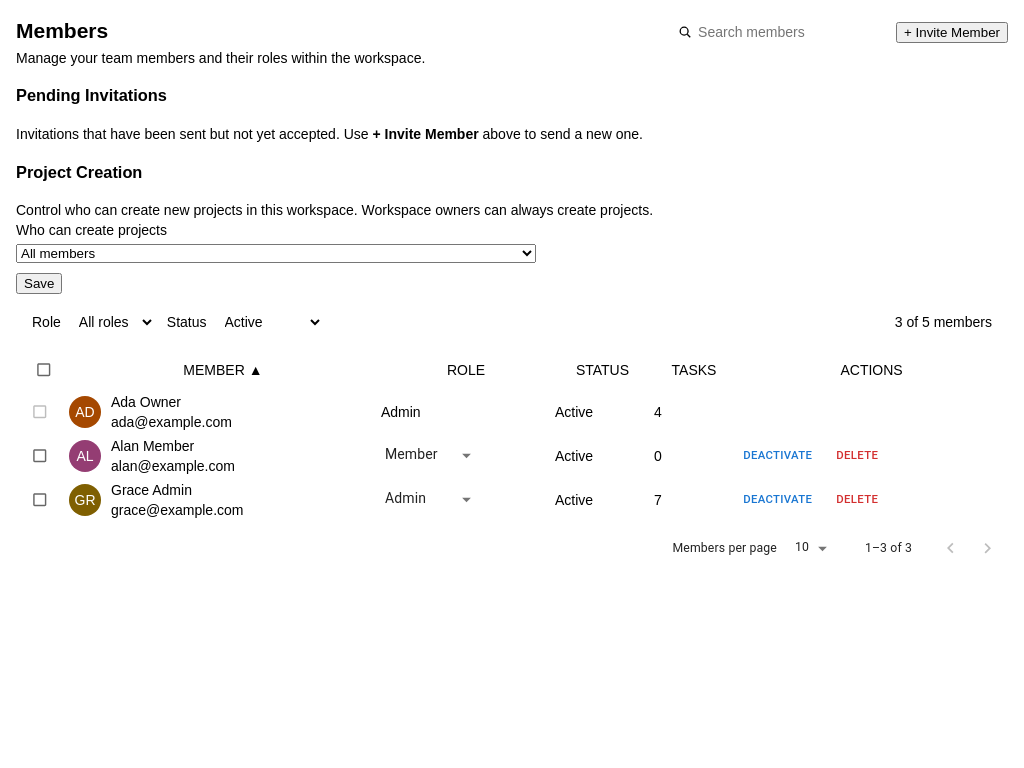
Scenario: JL-417 — the duplicate invite form is gone › still opens exactly one invite form from the header
Step 1. Click the button "+ Invite Member" → (952, 32), box [896, 22, 1008, 42]
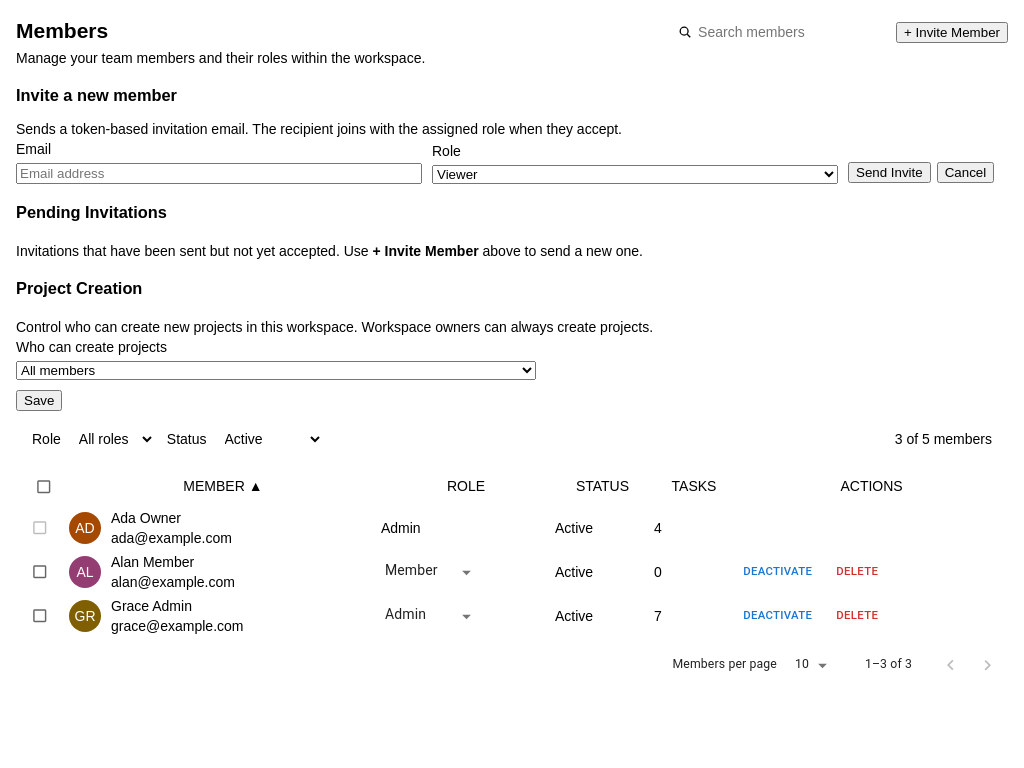
Expected: the heading "Invite a new member" is shown, [16, 86, 177, 104]
Expected: the number of fields with placeholder "Email address" is 1, [16, 163, 422, 184]
